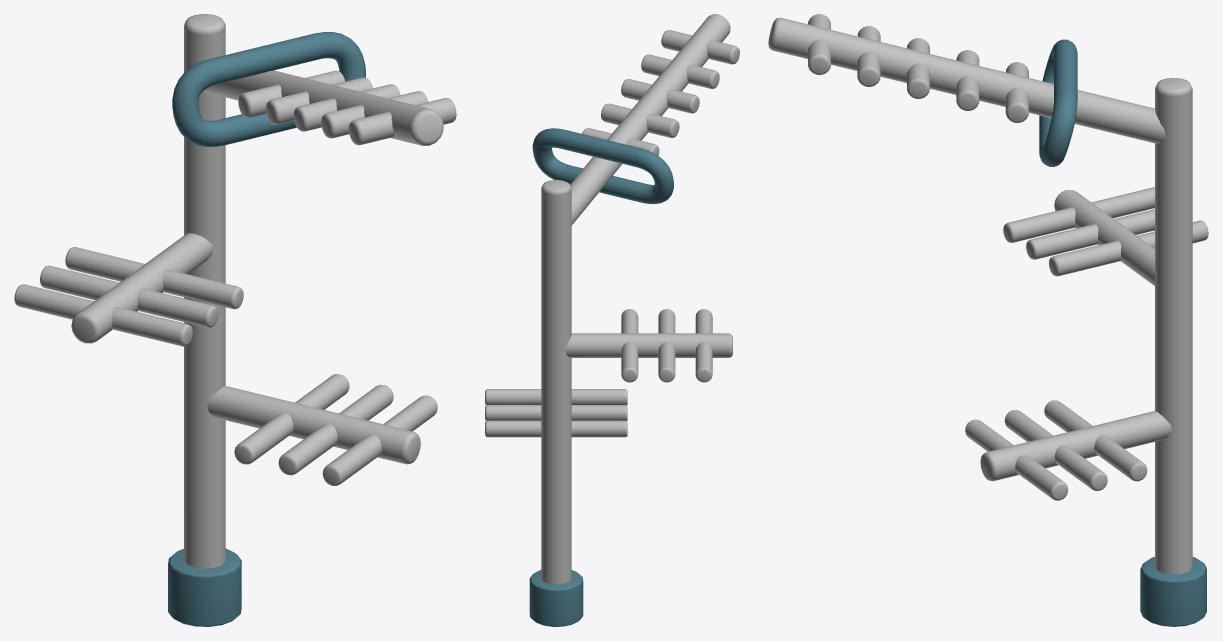
The model's file is City_13_Antenna_3.glb.
3 renders of one model, left to right at view 1: azimuth 30°, elevation 25°; view 2: azimuth 150°, elevation 25°; view 3: azimuth 270°, elevation 25°, orthographic. The views are drawn at different scales.
Parts seen in each view (by area): view 1: City_13_Antenna_3; view 2: City_13_Antenna_3; view 3: City_13_Antenna_3.
Part boxes in pixels (box(x1,y1,x2,y2)): City_13_Antenna_3: box(14, 14, 456, 626); City_13_Antenna_3: box(485, 14, 739, 626); City_13_Antenna_3: box(768, 14, 1208, 626).
Size of the model in its own units: 1.62 by 2.8 by 1.88.
Materials: 1 (1 with a texture image).
